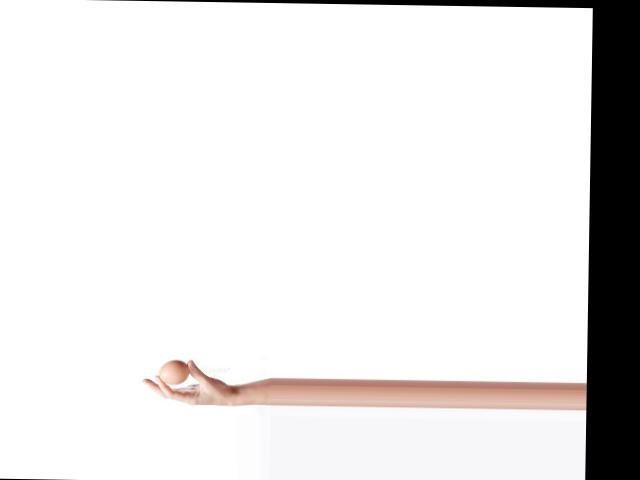egg: (159, 359, 190, 384)
